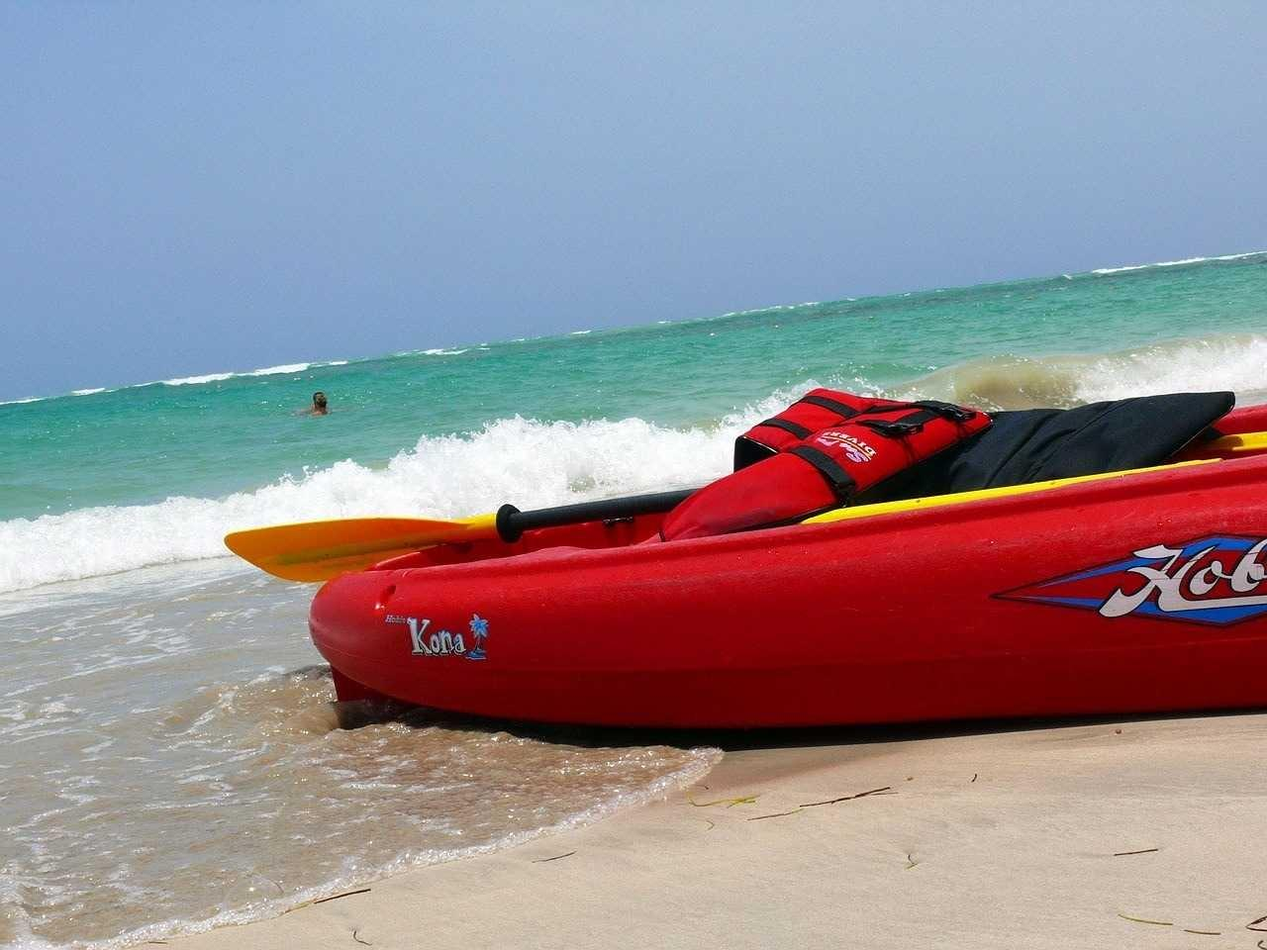kayak: (301, 431, 1263, 733)
